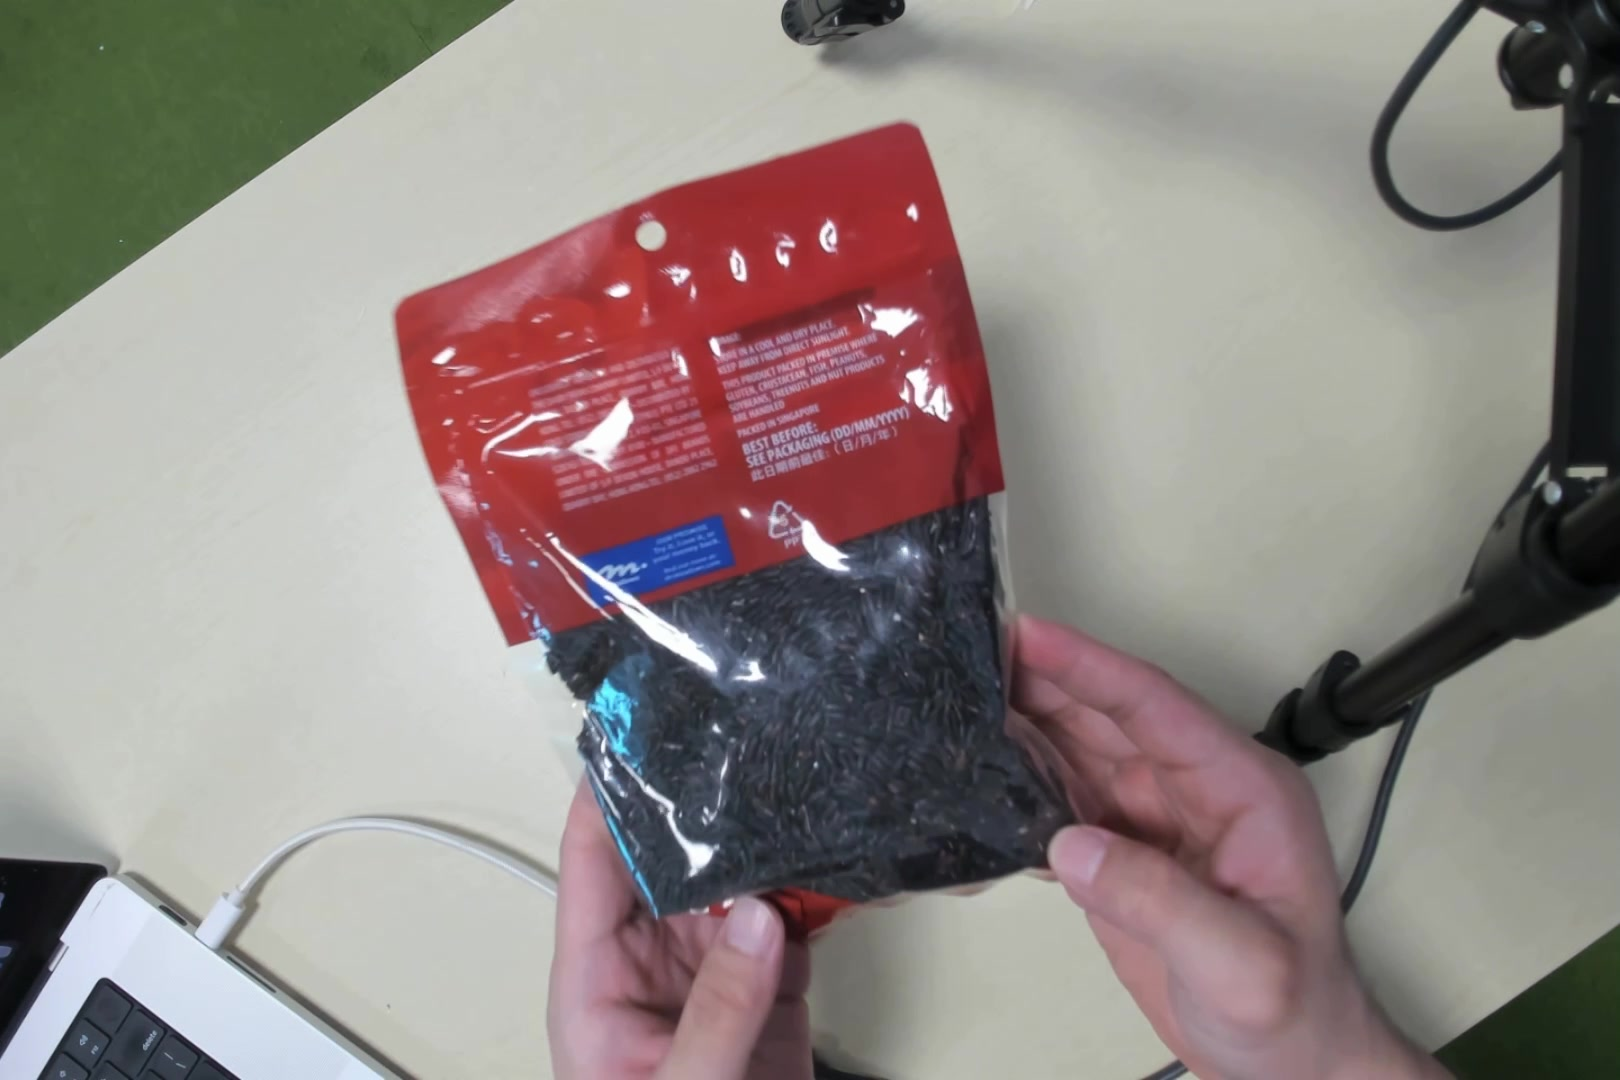OtherDriedFood_100-199g_NonHalal_NonHealthy: (497, 210, 1070, 931)
